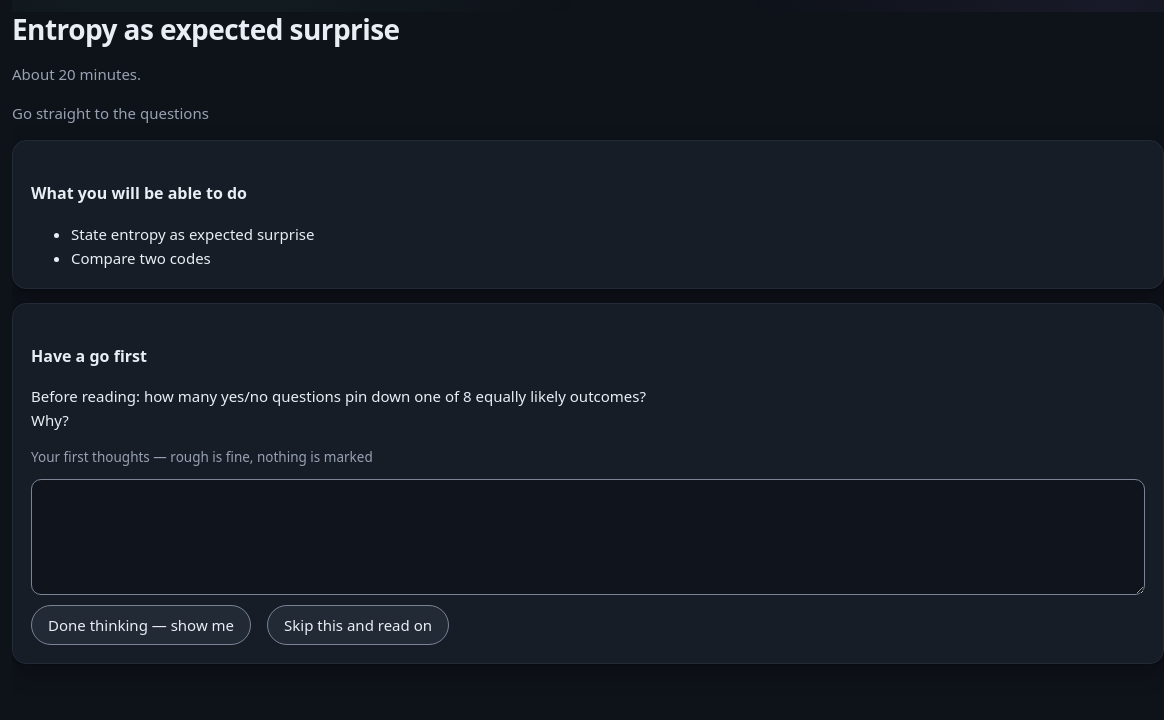
Scenario: the warm-up gate › reveals the explanation when the warm-up is explicitly skipped
The width and height of the screenshot is (1164, 720).
Click the button with test id "warm-up-skip": (358, 625) [267,605,449,645]
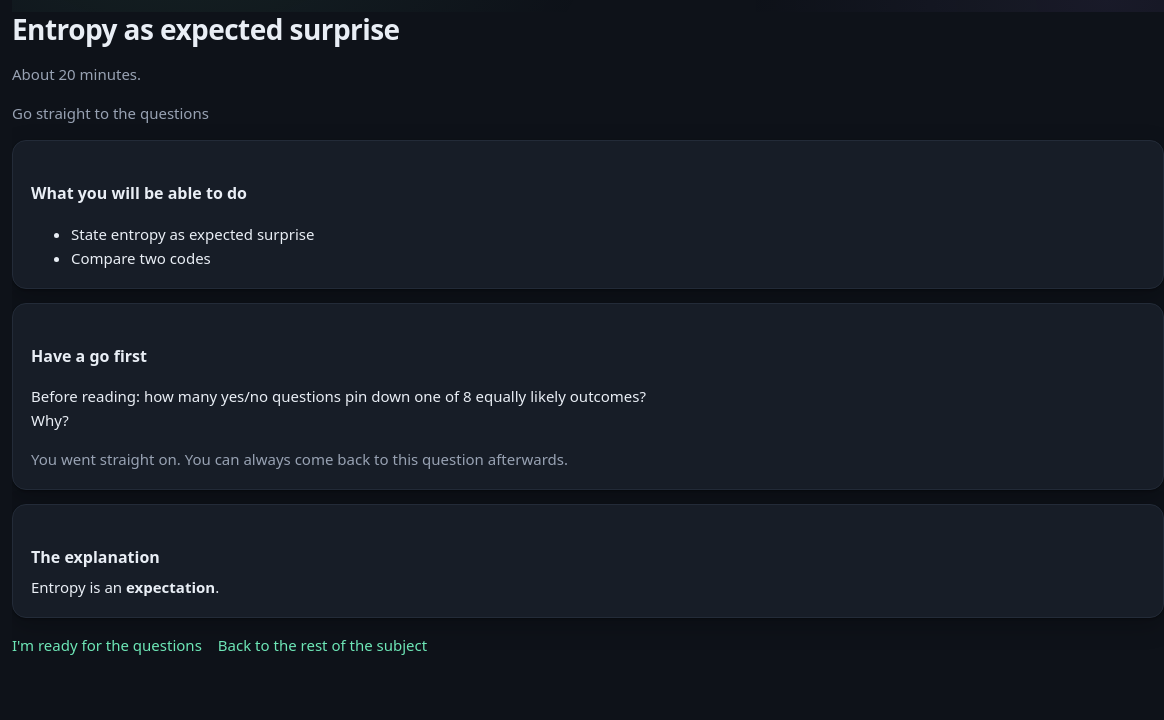
Result: the element with test id "explanation" is shown at [12,504,1163,618]
Result: the text with test id "warm-up-settled" shows "straight on" at [31,449,568,469]
